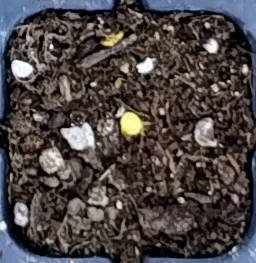pepper seed: (48, 43, 192, 179), (36, 6, 161, 54)
